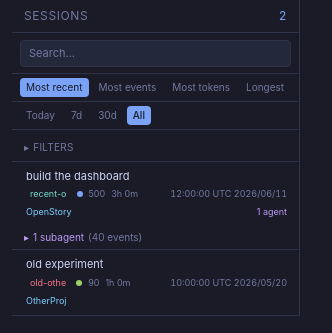
Test: when a date-range chip is set › should hide sessions whose last activity is outside the window
Click the button with test id "date-range-7d" at (77, 115), box [65,106,88,124]
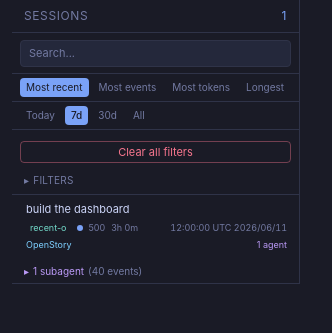
Expected: the button with test id "explore-session-recent-openstory" is shown, [12,195,299,260]
Result: the button with test id "explore-session-old-otherproj" is gone
